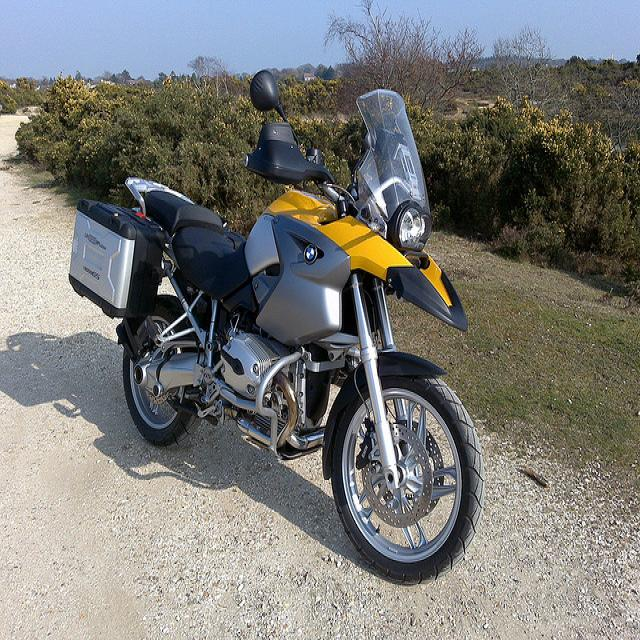motor: (69, 67, 482, 583)
